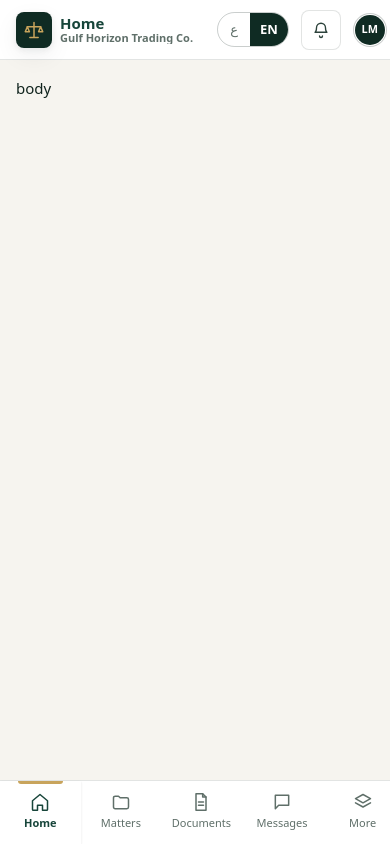
every destination is reachable on a phone · the defect this redesign fixes › puts the account actions in the sheet, so sign-out is not only behind an avatar
Step 1. Click the button "More" → [356, 812], box [322,781,389,843]
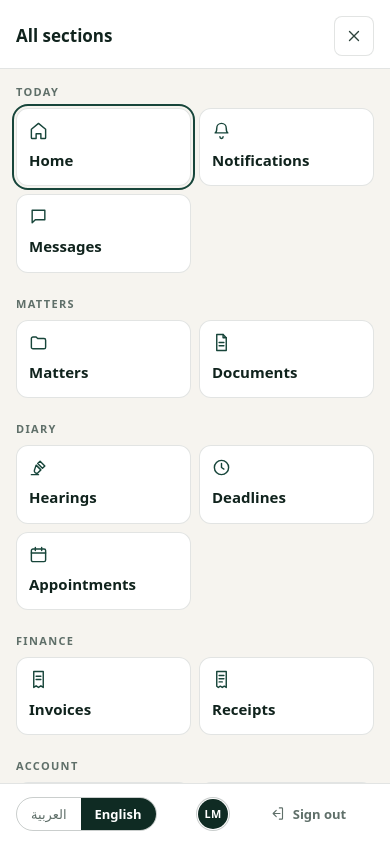
Expected: the dialog with class "sheet" is shown
Expected: the dialog with class "sheet" shows "Sign out", [242,796,374,832]
Expected: the dialog with class "sheet" shows "All sections", [16,24,112,46]
